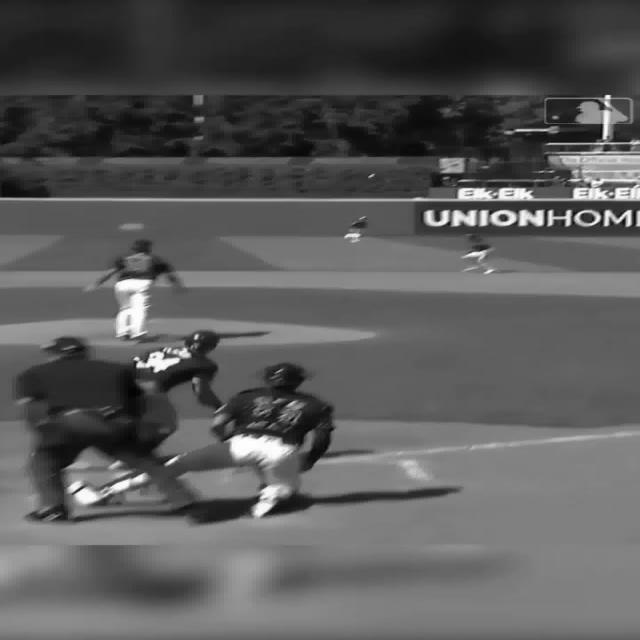shoe: (249, 485, 295, 518), (65, 480, 113, 506), (161, 487, 195, 512), (23, 504, 65, 522), (248, 498, 278, 518), (136, 334, 160, 343)
